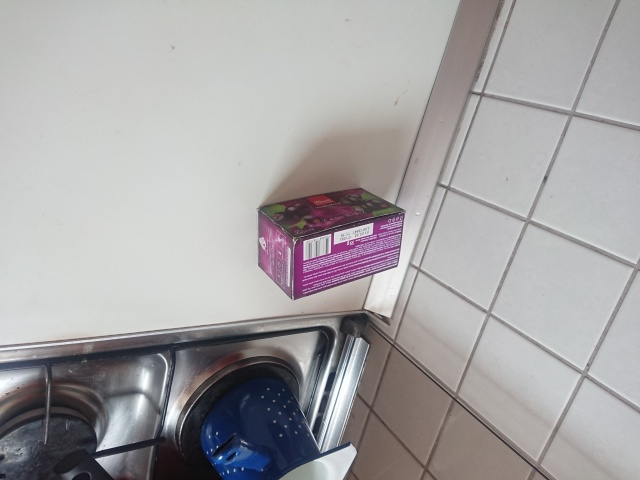Franck Black Currant Tea 60g: (254, 185, 408, 303)
